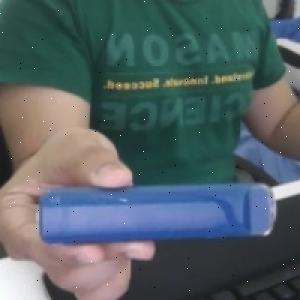Diamond-E-Ciggirate: (39, 180, 280, 245)
